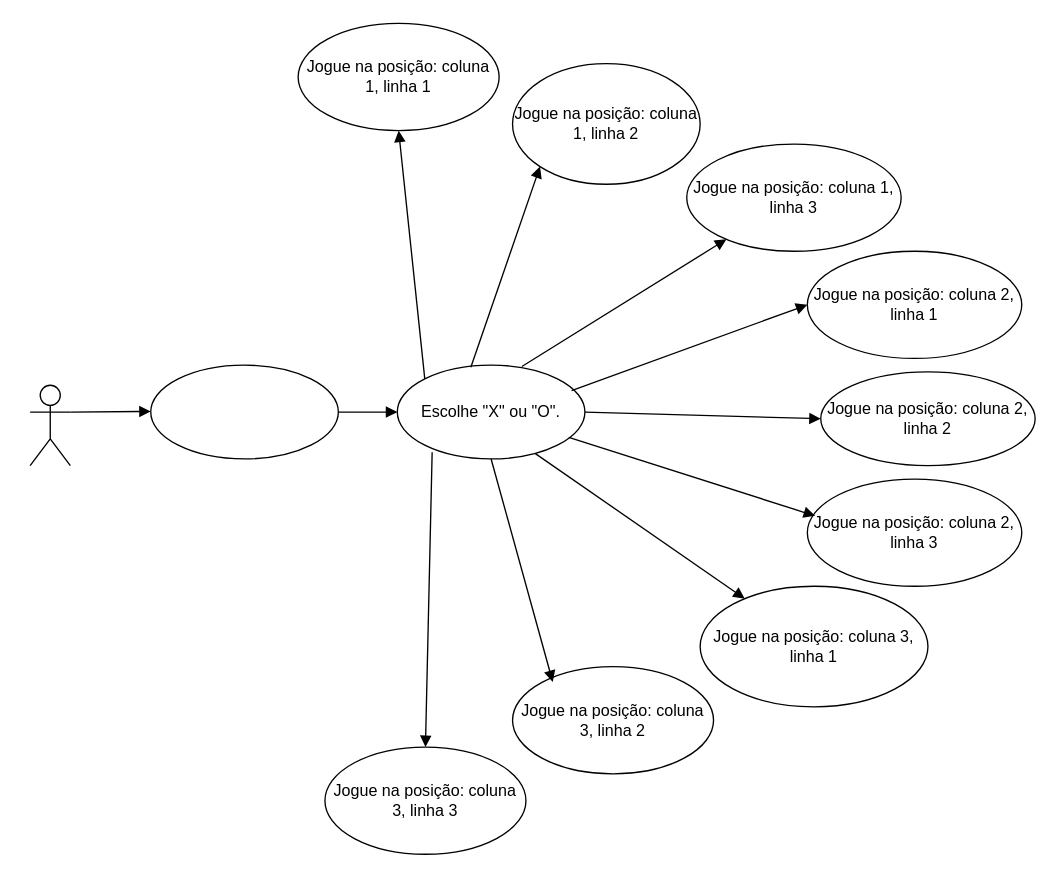
Image size: 1059x878. Some labels were removed from this diagram. Here are the shapes that lost their labels. From the top down, the box of each, then its label:
(29, 384, 70, 466): Usuário
(149, 364, 338, 459): Iniciar o jogo
